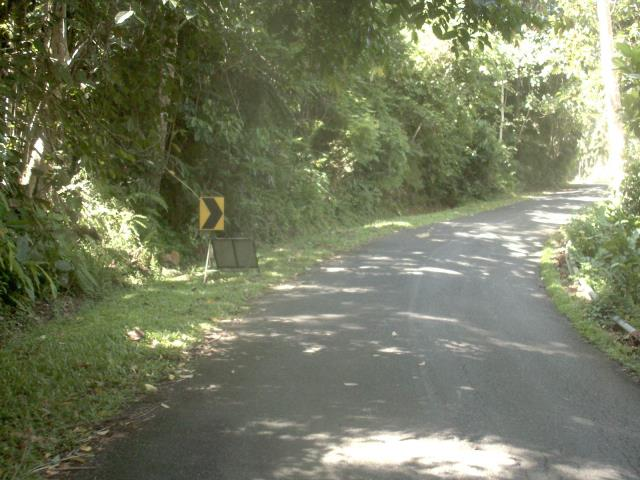traffic_sign: (190, 190, 232, 239)
